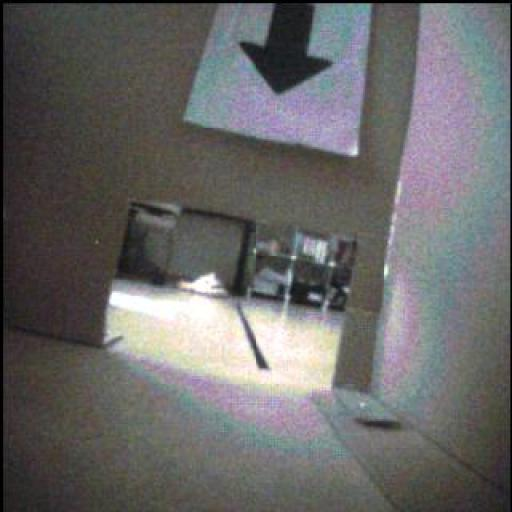arrow: (241, 5, 334, 96)
